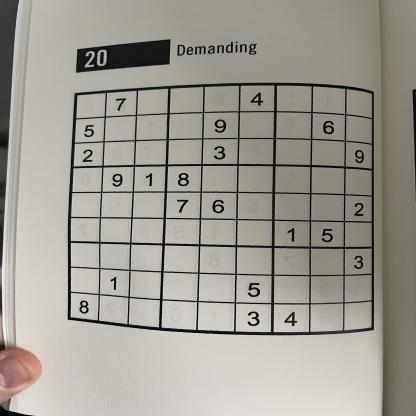sudoku: (64, 79, 379, 338)
